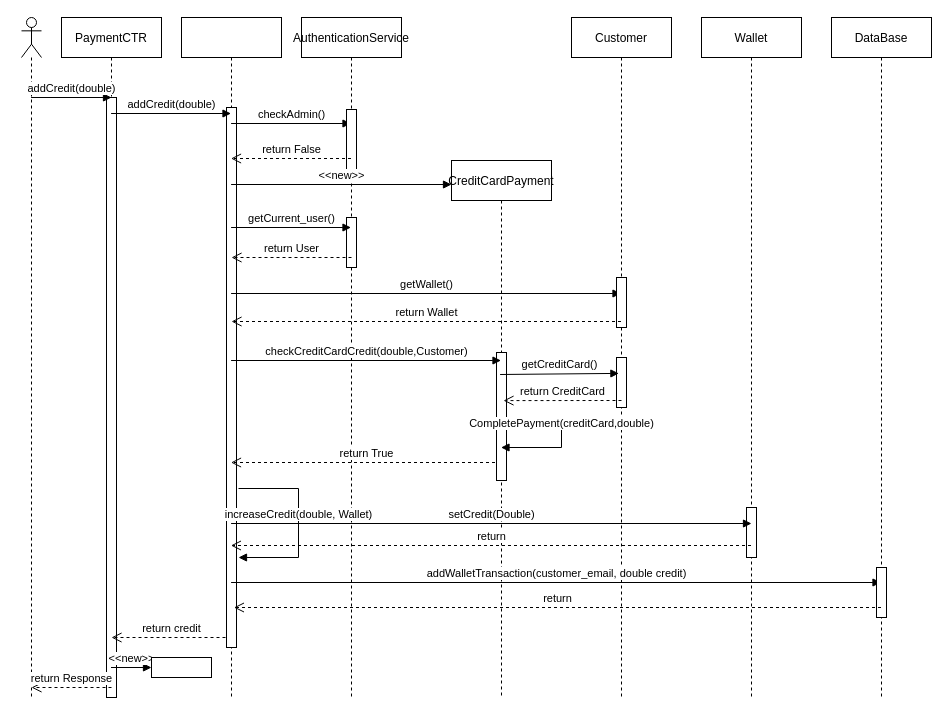
Image size: 949x715. Some labels were removed from this diagram. Each missing label, with the box of its shape:
Actor: (20, 16, 42, 698)
PaymentService: (180, 16, 282, 698)
Response: (150, 656, 212, 678)
